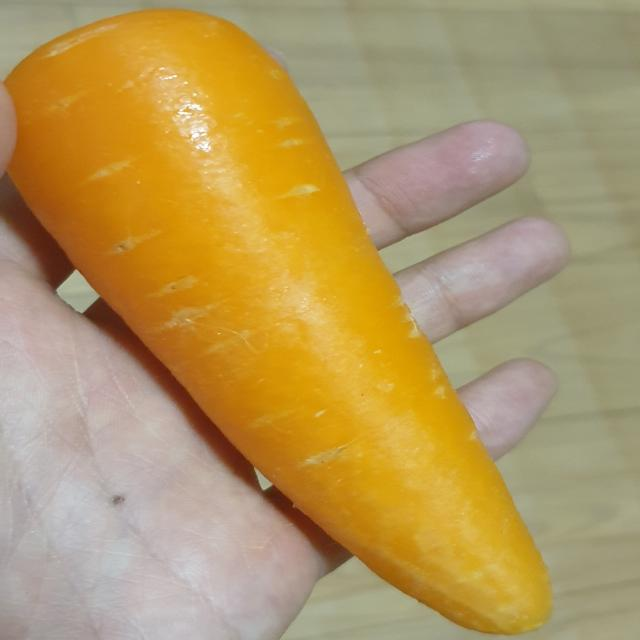Carrot: (0, 5, 570, 640)
